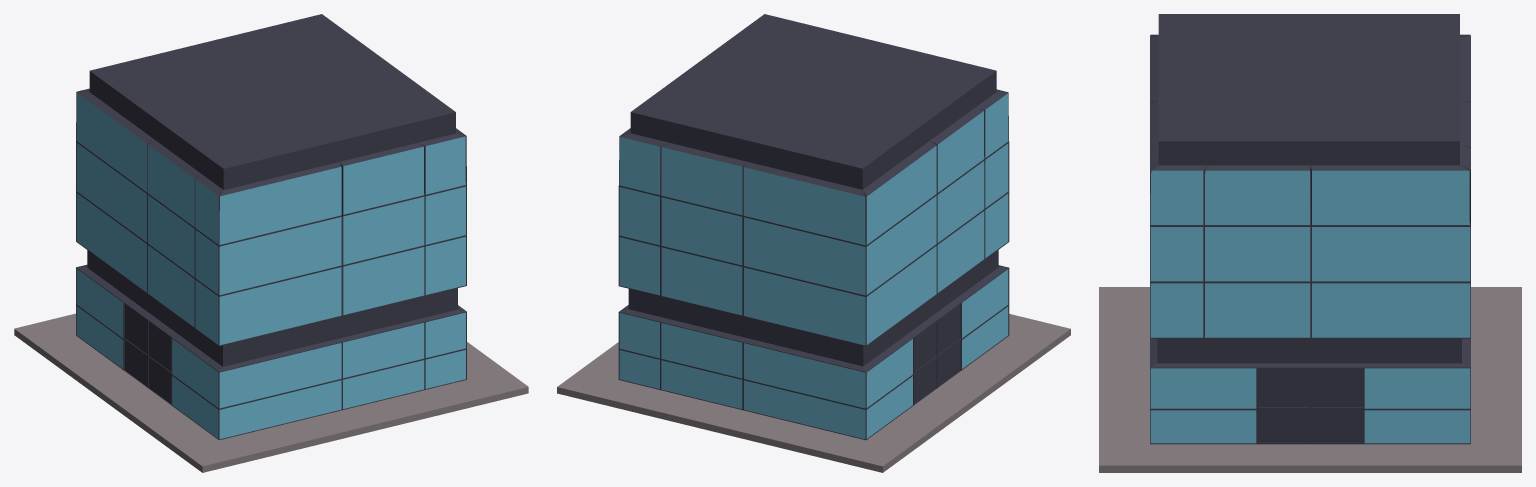
The model's file is building_1x1_9_g.glb.
The picture shows the model from 3 angles, left to right: view 1: azimuth 30°, elevation 25°; view 2: azimuth 150°, elevation 25°; view 3: azimuth 270°, elevation 25°; orthographic projection. The views are drawn at different scales.
Parts seen in each view (by area): view 1: FirstFloor; view 2: FirstFloor; view 3: FirstFloor.
Boxes of the visible parts, <box> form: FirstFloor: <box>14,14,528,472</box>; FirstFloor: <box>557,14,1070,472</box>; FirstFloor: <box>1099,14,1521,472</box>.
Size of the model in its own units: 2 by 1.6 by 2.
